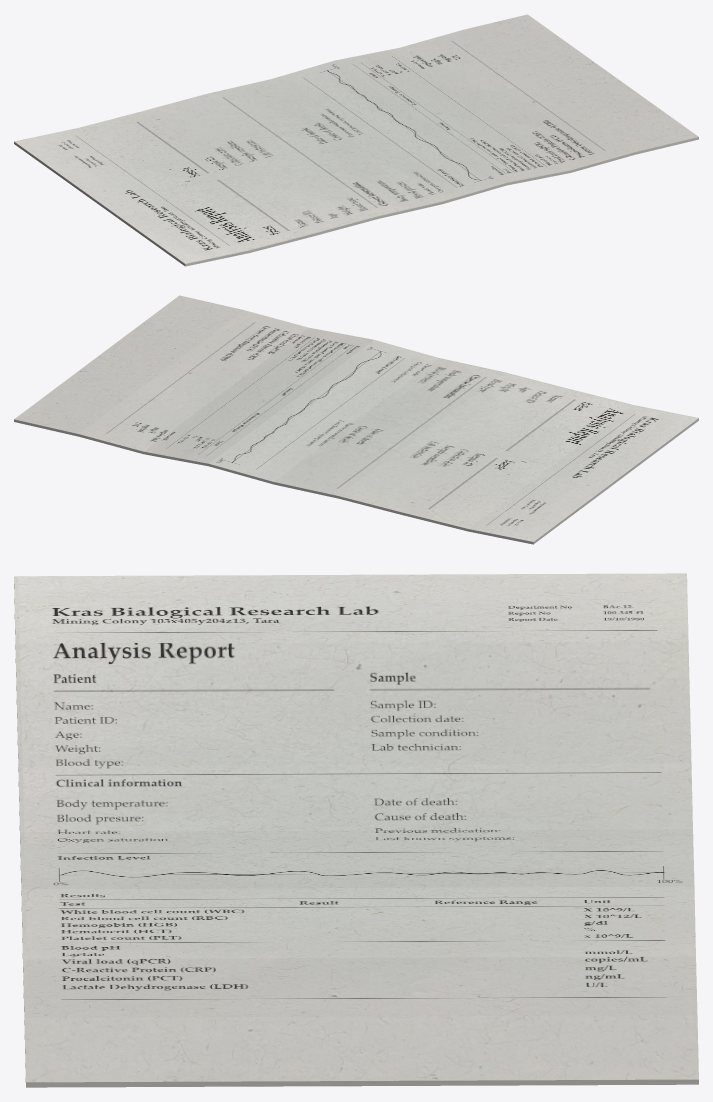
File: Item_document.fbx
3 renders of one model, top to bottom at view 1: azimuth 30°, elevation 25°; view 2: azimuth 150°, elevation 25°; view 3: azimuth 270°, elevation 25°, orthographic. The views are drawn at different scales.
Parts seen in each view (by area): view 1: Cube.010; view 2: Cube.010; view 3: Cube.010.
Boxes of the visible parts, box(x1,y1,x2,y2) form: Cube.010: box(14, 14, 698, 266); Cube.010: box(14, 295, 698, 544); Cube.010: box(14, 573, 698, 1087).
Bounding box in the file's own units: 45.23 × 0.5015 × 25.85.
